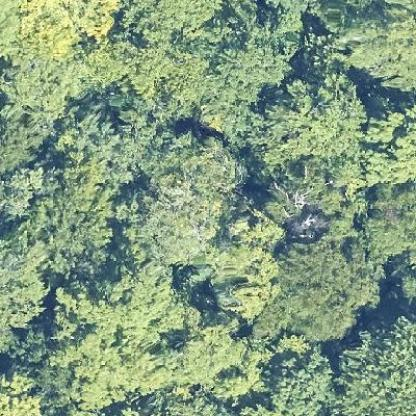tree-top: (116, 128, 246, 263), (256, 237, 384, 343), (192, 25, 300, 132), (28, 154, 118, 274), (325, 321, 415, 415), (0, 0, 125, 59), (332, 4, 415, 92), (259, 342, 332, 415)
